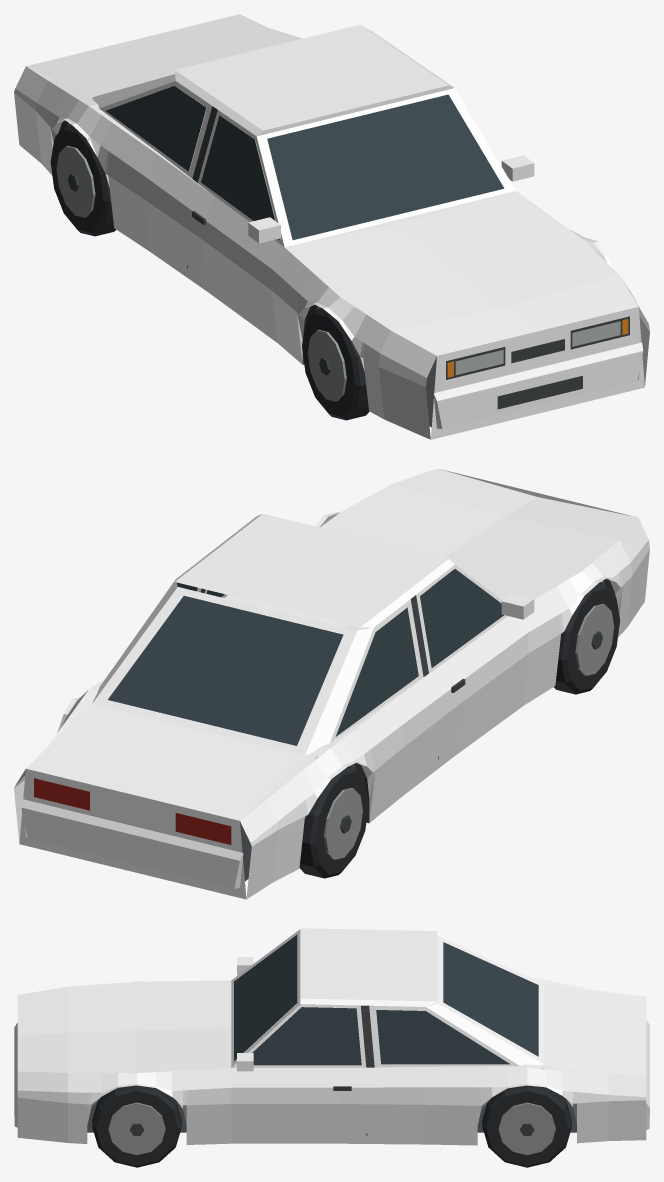
Rendered from mizuchi_chidori_sr_99.glb.
3 views of the same model, one above another, from view 1: azimuth 30°, elevation 25°; view 2: azimuth 150°, elevation 25°; view 3: azimuth 270°, elevation 25° (orthographic). The views are drawn at different scales.
Visible parts, largest first — view 1: mizuchi_chidori_sr_99; view 2: mizuchi_chidori_sr_99; view 3: mizuchi_chidori_sr_99.
Boxes of the visible parts, x1,y1,x2,y2 form: mizuchi_chidori_sr_99: [14, 14, 649, 439]; mizuchi_chidori_sr_99: [14, 468, 649, 899]; mizuchi_chidori_sr_99: [14, 928, 649, 1167].
Bounding box in the file's own units: 1.76 × 1.22 × 4.53.
8 materials, 1 textured.
